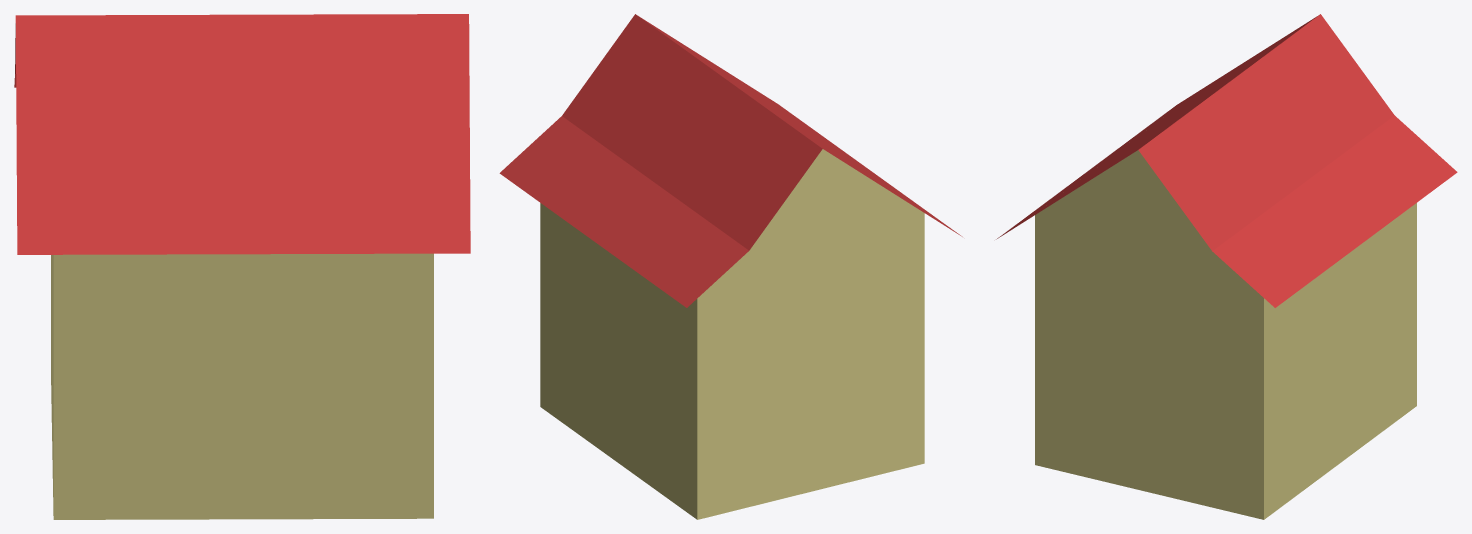
3 renders of one model, left to right at view 1: azimuth 30°, elevation 25°; view 2: azimuth 150°, elevation 25°; view 3: azimuth 270°, elevation 25°, orthographic. The views are drawn at different scales.
Size of the model in its own units: 16.15 by 15.56 by 13.13.
